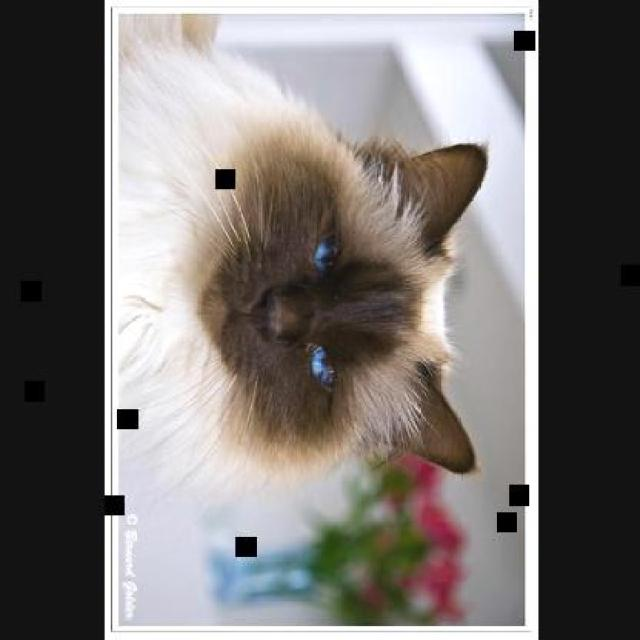unauthorized: (116, 12, 490, 503)
